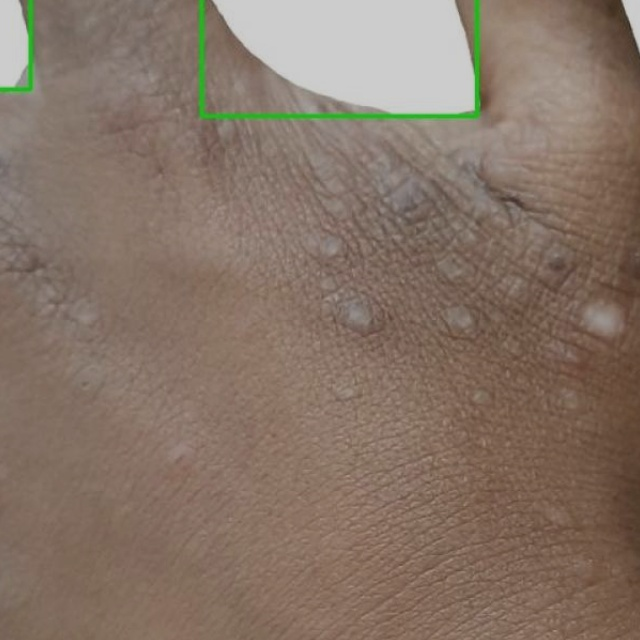Scabies: (201, 0, 476, 116)
